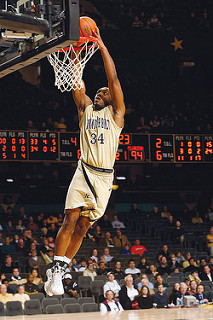basketball: (75, 15, 99, 41)
